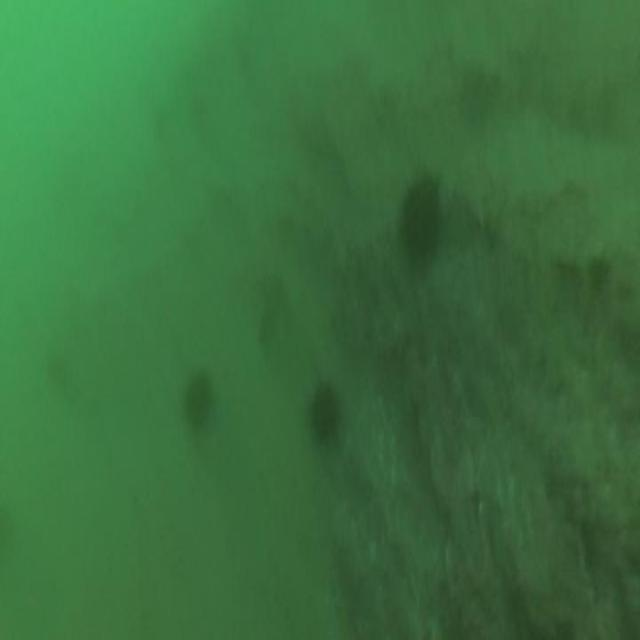echinus: (399, 180, 443, 259), (309, 384, 339, 442), (185, 379, 211, 427)
